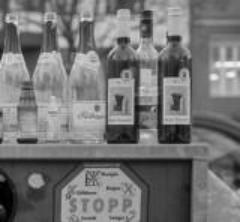glass: (2, 8, 194, 142)
